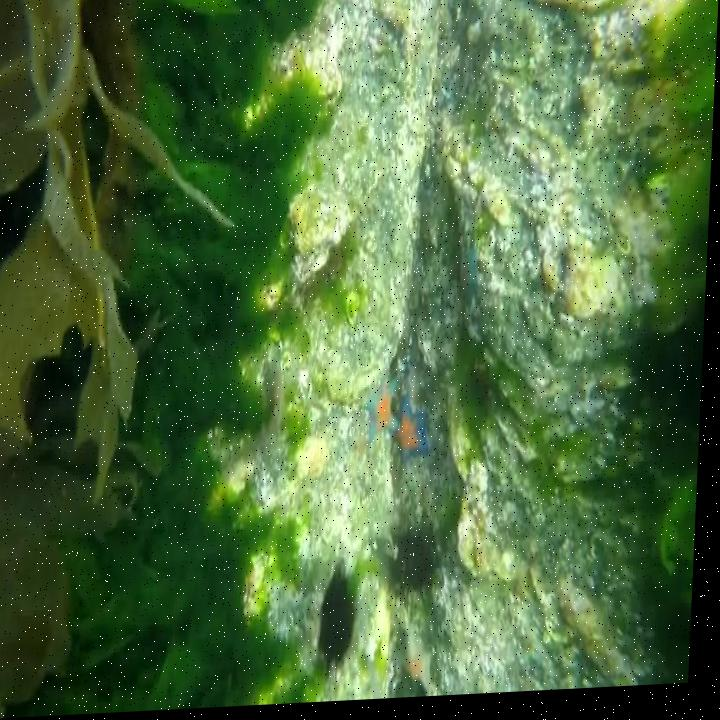echinus: (324, 564, 363, 679), (395, 531, 444, 613)
starfish: (401, 639, 440, 703), (400, 401, 436, 467), (369, 378, 403, 447), (460, 254, 484, 303)
